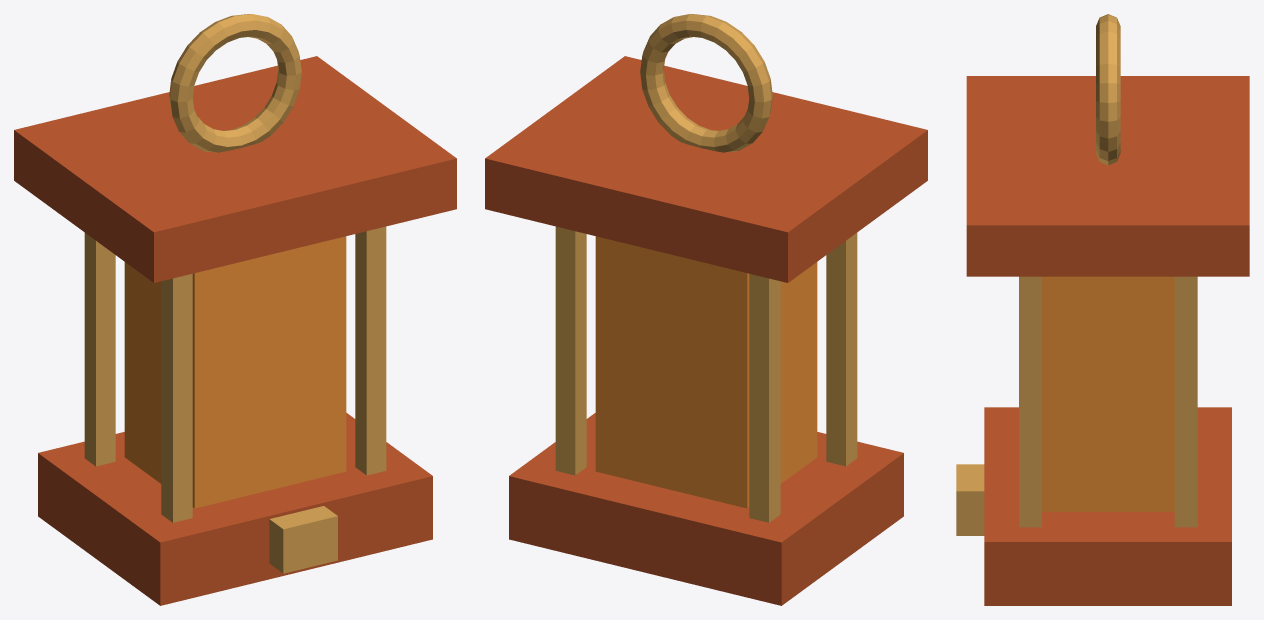
Rendered from ember.glb.
The picture shows the model from 3 angles, left to right: view 1: azimuth 30°, elevation 25°; view 2: azimuth 150°, elevation 25°; view 3: azimuth 270°, elevation 25°; orthographic projection.
Visible parts, largest first — view 1: Canopy, Amber core, Lantern base, Torus, Brass frame.002, Brass frame, Brass frame.001, Front clasp; view 2: Canopy, Amber core, Lantern base, Torus, Brass frame.003, Brass frame.001, Brass frame; view 3: Canopy, Amber core, Lantern base, Brass frame.003, Brass frame.002, Torus, Front clasp.
Part boxes in pixels (box(x1,y1,x2,y2)): Canopy: box(14, 56, 456, 282); Amber core: box(124, 236, 346, 508); Lantern base: box(38, 413, 432, 605); Torus: box(169, 14, 301, 152); Brass frame.002: box(355, 226, 386, 475); Brass frame: box(161, 273, 192, 522); Brass frame.001: box(84, 233, 115, 466); Front clasp: box(269, 506, 337, 573); Canopy: box(485, 56, 927, 282); Amber core: box(595, 236, 817, 508); Lantern base: box(509, 413, 903, 605); Torus: box(640, 14, 772, 152); Brass frame.003: box(555, 226, 586, 475); Brass frame.001: box(749, 273, 780, 522); Brass frame: box(826, 233, 857, 466); Canopy: box(966, 76, 1249, 276); Amber core: box(1042, 276, 1174, 511); Lantern base: box(984, 407, 1231, 605); Brass frame.003: box(1174, 276, 1197, 527); Brass frame.002: box(1019, 276, 1041, 527); Torus: box(1096, 14, 1120, 165); Front clasp: box(956, 464, 984, 535).
Bounding box in the file's own units: 1 × 1.62 × 0.83.
